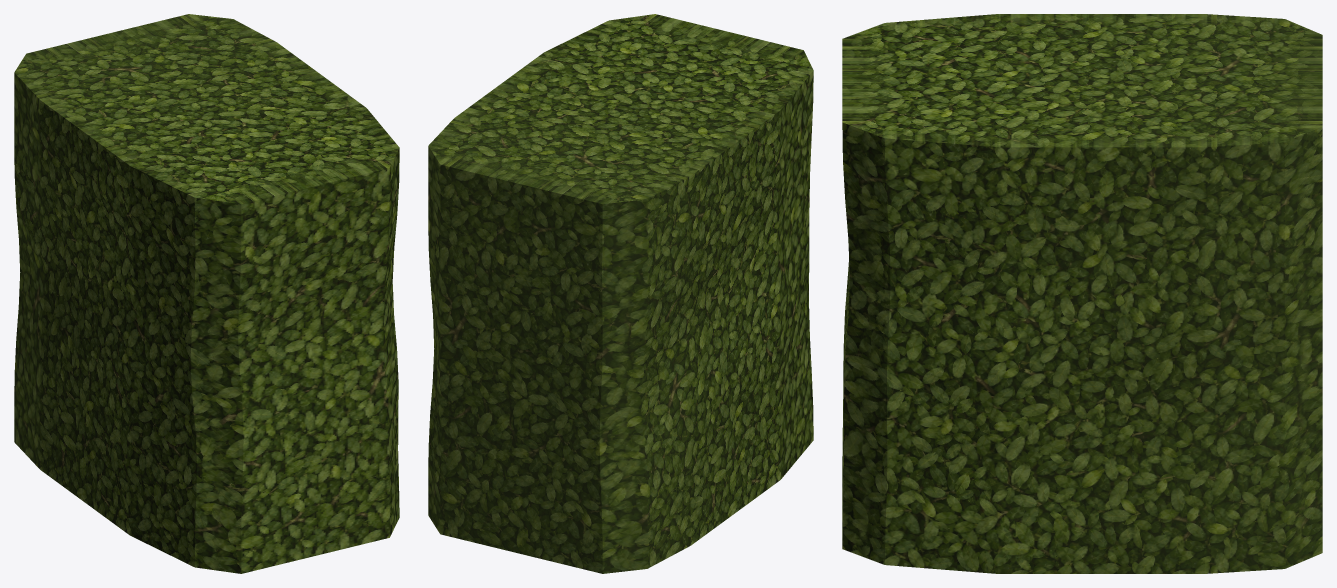
The picture shows the model from 3 angles, left to right: view 1: azimuth 30°, elevation 25°; view 2: azimuth 150°, elevation 25°; view 3: azimuth 270°, elevation 25°; orthographic projection. The views are drawn at different scales.
Size of the model in its own units: 0.67 by 1 by 1.02.
Materials: 1 (1 with a texture image).
